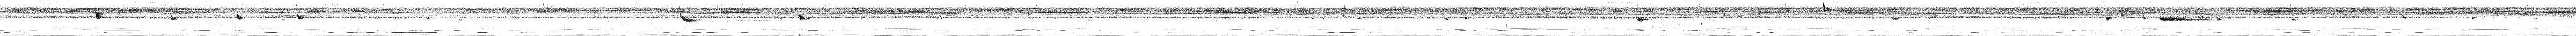meteor: (2160, 18, 2213, 21), (680, 15, 698, 23), (297, 13, 310, 21), (798, 15, 813, 21), (1636, 16, 1649, 21), (171, 13, 176, 21), (237, 15, 243, 20)
